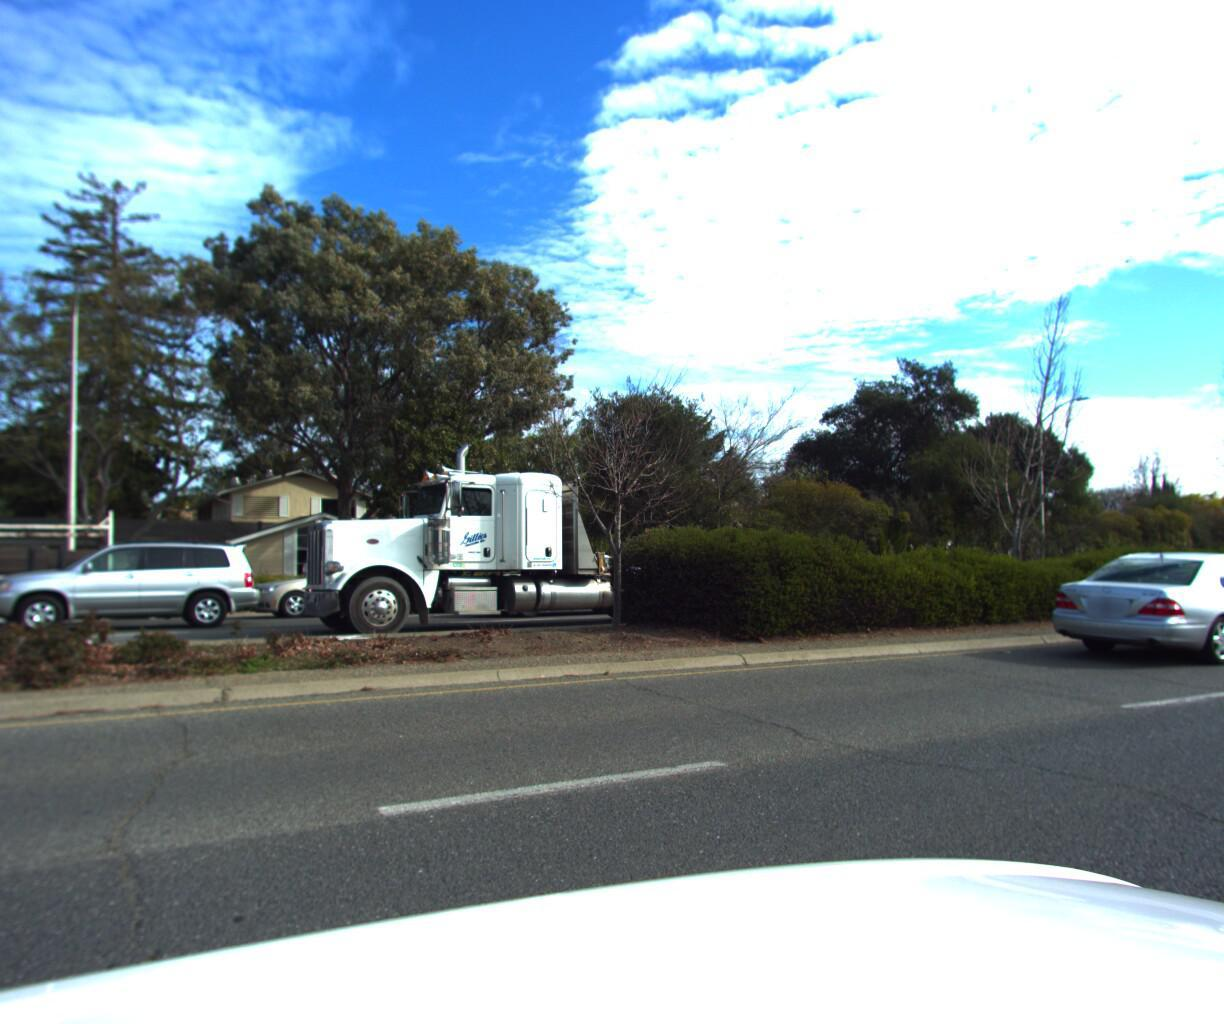car: (0, 536, 267, 638), (1034, 542, 1224, 667), (237, 554, 440, 622), (462, 549, 660, 618), (0, 515, 6, 685)
truck: (282, 404, 886, 647), (0, 499, 135, 643)
